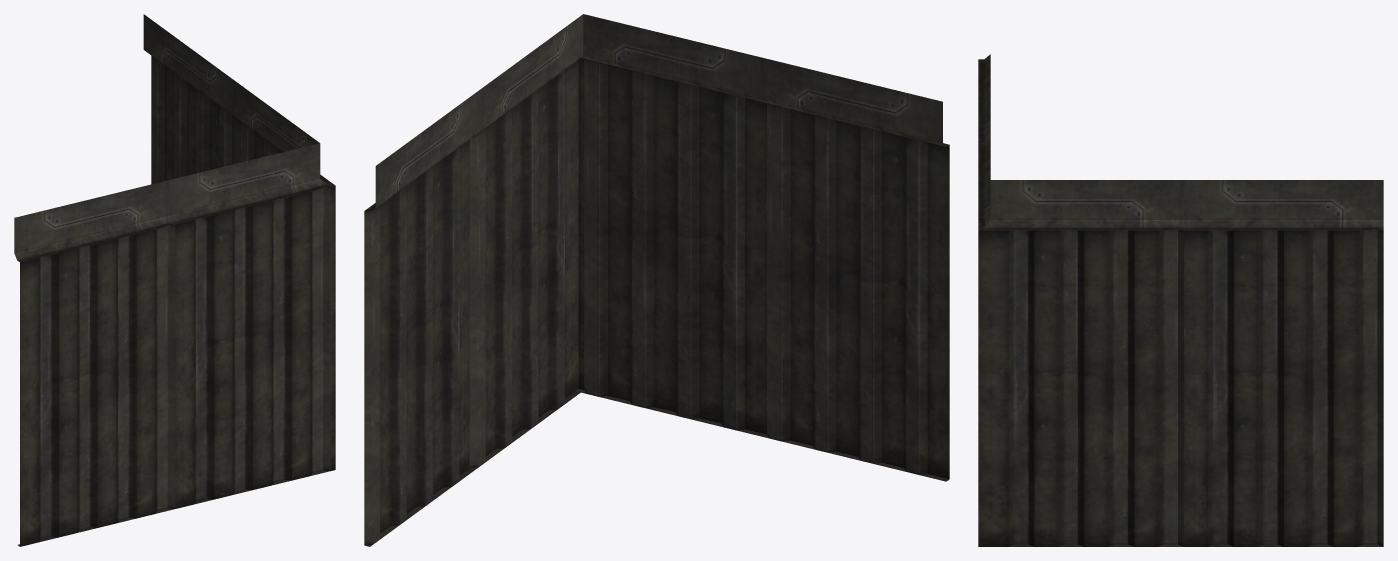
The model's file is pplant_bulkhead_concave.dae.
3 views of the same model, side by side, from view 1: azimuth 30°, elevation 25°; view 2: azimuth 150°, elevation 25°; view 3: azimuth 270°, elevation 25° (orthographic). The views are drawn at different scales.
Parts seen in each view (by area): view 1: bulkhead_concave; view 2: bulkhead_concave; view 3: bulkhead_concave.
Part boxes in pixels (<box>): bulkhead_concave: <box>14,14,335,546</box>; bulkhead_concave: <box>364,14,949,546</box>; bulkhead_concave: <box>978,54,1383,546</box>.
Size of the model in its own units: 4.06 by 4 by 4.06.
